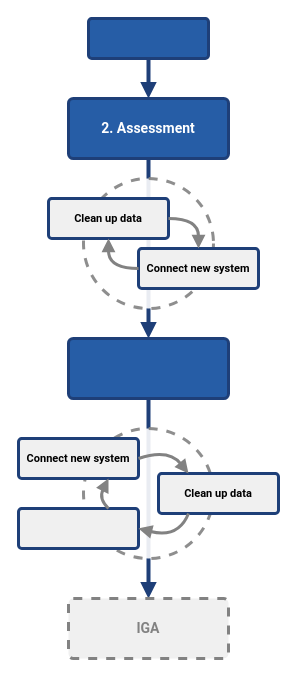
The diagram is 297 pixels wide and 677 high, and some of its shapes have lost their labels. Each missing label, with the centre of its shape:
1. Kick-off: point (148, 38)
3. Automation: point (148, 368)
Increase automation: point (78, 528)
